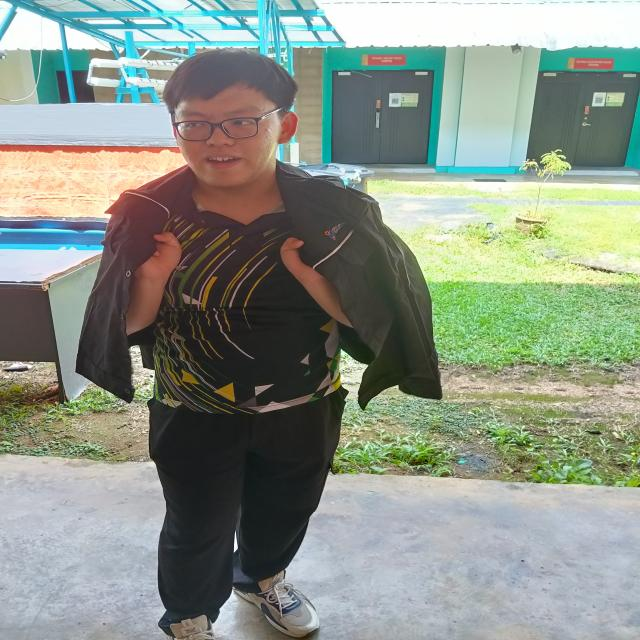person_without_labcoat: (77, 49, 441, 640)
